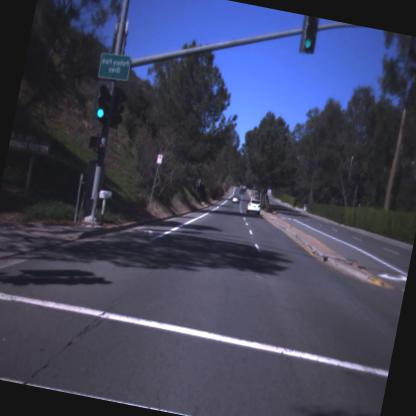trafficlight: (88, 76, 117, 127), (296, 14, 323, 53)
